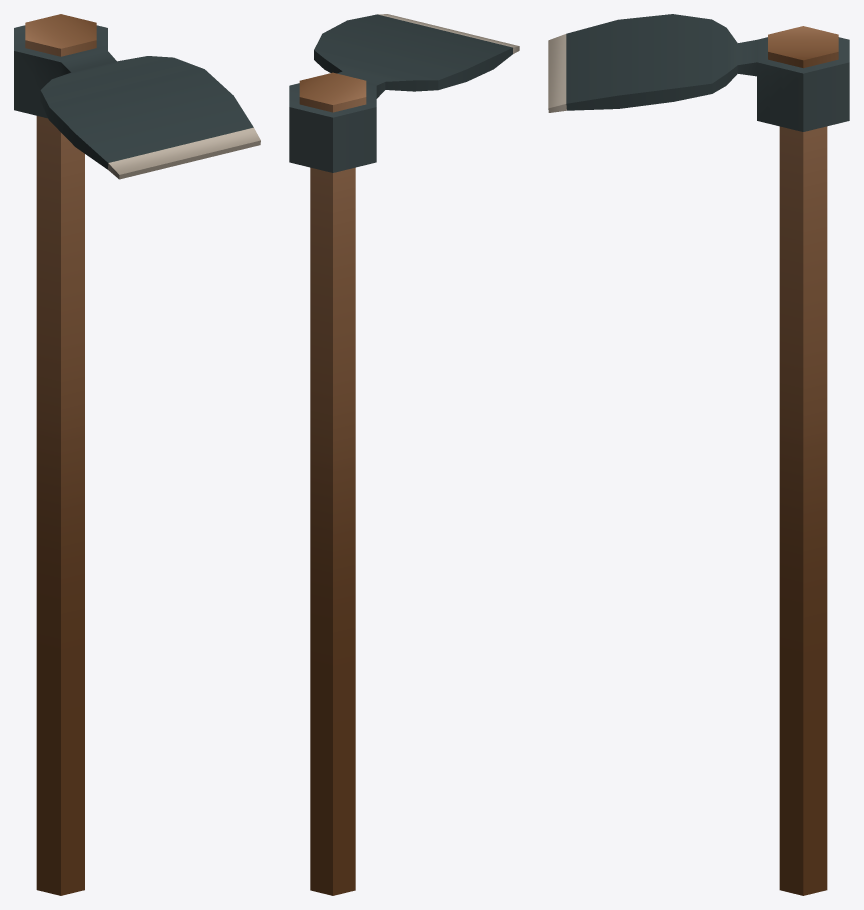
Rendered from Hoe.fbx.
3 renders of one model, left to right at view 1: azimuth 30°, elevation 25°; view 2: azimuth 150°, elevation 25°; view 3: azimuth 270°, elevation 25°, orthographic. The views are drawn at different scales.
Visible parts, largest first — view 1: Hoe.002; view 2: Hoe.002; view 3: Hoe.002.
Part boxes in pixels (x1,y1,x2,y2): Hoe.002: [14, 14, 260, 895]; Hoe.002: [289, 14, 519, 895]; Hoe.002: [548, 14, 849, 895].
Bounding box in the file's own units: 0.2313 × 1.2 × 0.388.
1 material, 1 textured.
